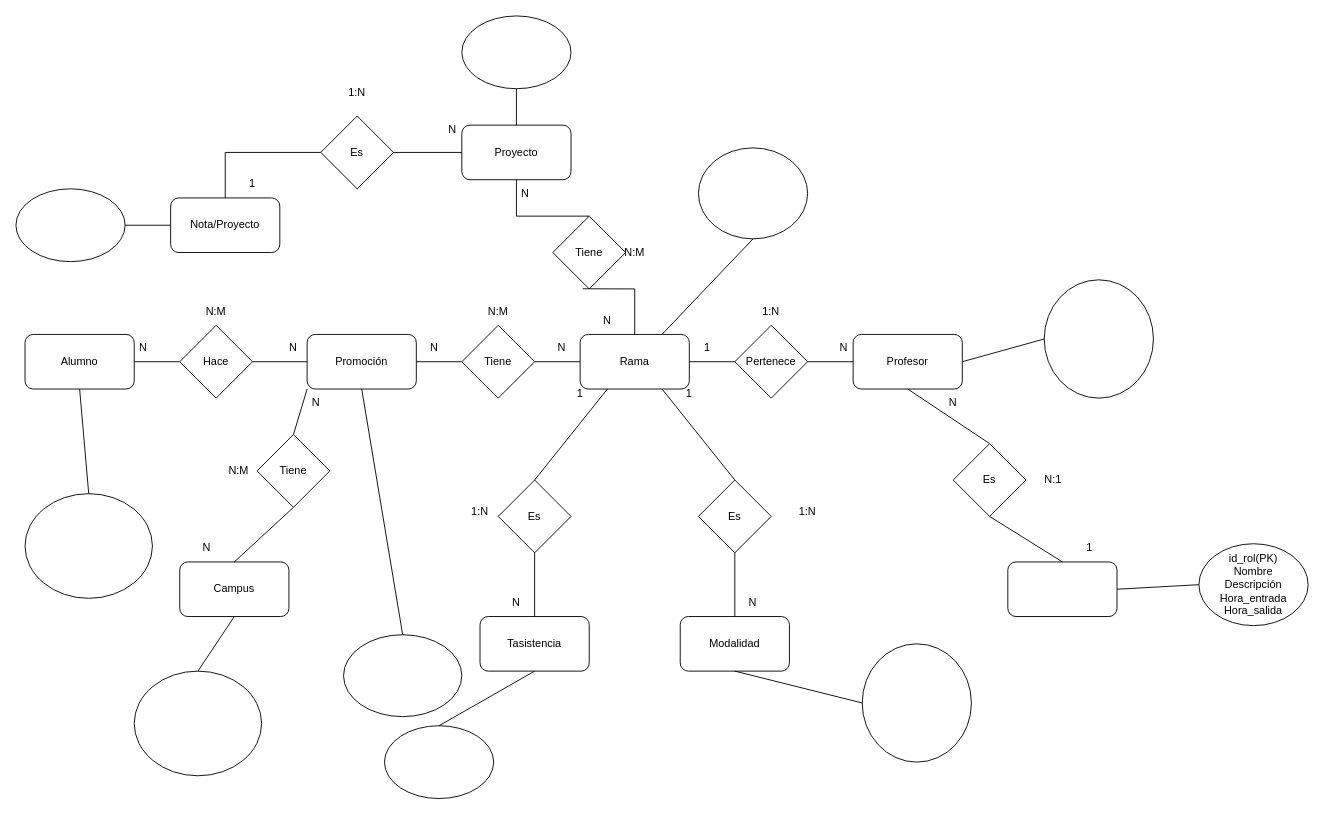
Some shapes in this 1324 by 814 pixel diagram are drawn without their labels. Here are the shapes that lost their labels. From the top down, the centre of each, then its label:
At point (516, 52): "id_proyecto(PK) Nombre Descripción id_rama(FK1)".
At point (753, 193): "id_rama(PK) Nombre".
At point (70, 225): "id_nota(PK) id_proyecto(FK1) Apto/ No Apto".
At point (1098, 338): "id_profesor(PK) Nombre Email Fecha_inicio_trabajo Fecha_fin id_rol(FK1)".
At point (88, 545): "id_alumno(PK) Nombre Email id_promoción(FK1)".
At point (1062, 589): "Rol".
At point (402, 675): "id_promoción(PK) Fecha_inicio Fecha_fin Npromoción id_rama(FK1)".
At point (916, 702): "id_modalidad(PK) Nombre Hora_Entrada Hora_salida id_rama(FK1)".
At point (197, 723): "id_campus(PK) Nombre Npromoción id_rama(FK1)".
At point (439, 762): "id_tasistencia(PK) Tipo id_rama(FK1)".
